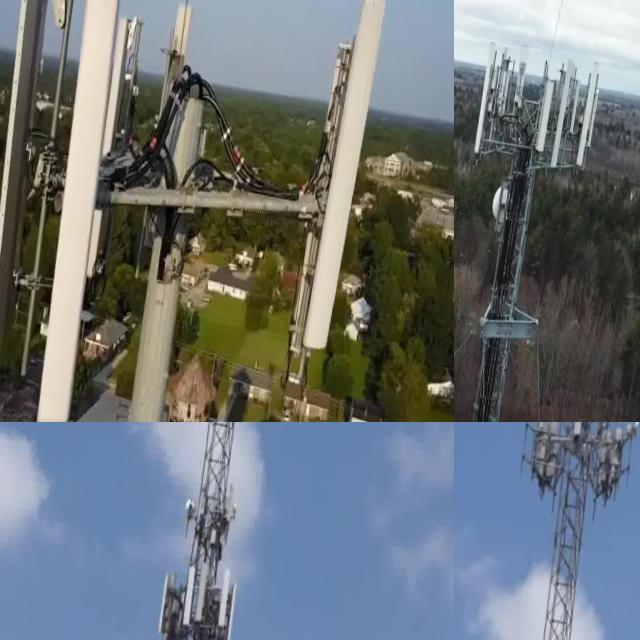GSM Antenna: (11, 0, 140, 422), (291, 0, 395, 364), (0, 0, 70, 361), (290, 29, 346, 364), (84, 6, 143, 284), (156, 0, 195, 144), (472, 31, 504, 161), (549, 48, 580, 172), (574, 49, 603, 173), (504, 45, 534, 132), (530, 71, 558, 164), (178, 561, 202, 636), (214, 563, 236, 632), (191, 558, 215, 621), (569, 422, 591, 445)
Microwave Antenna: (487, 172, 514, 233), (182, 494, 198, 517), (624, 422, 640, 440), (228, 499, 240, 520)
